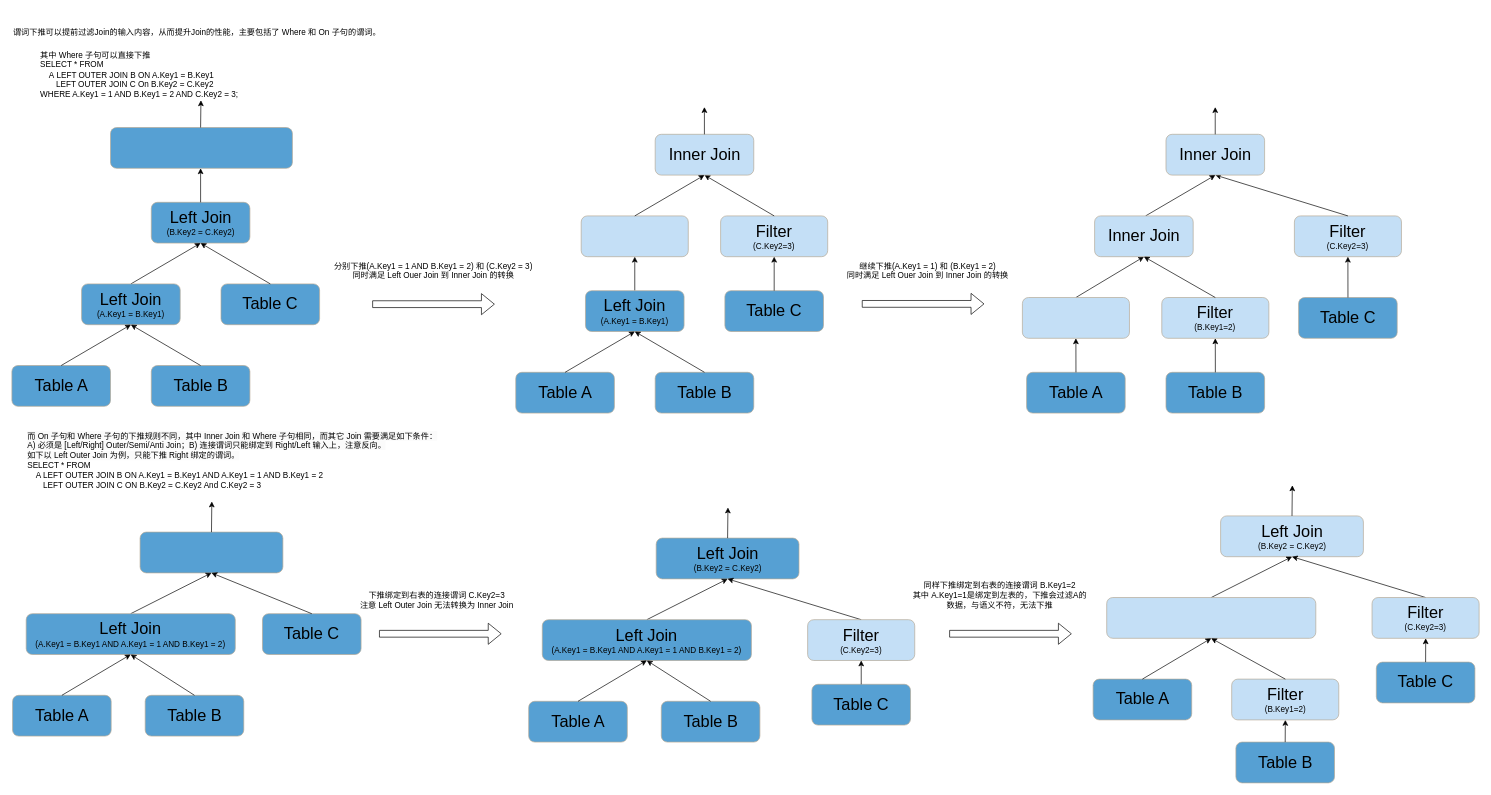
Some shapes in this 1491 by 795 pixel diagram are drawn without their labels. The centre of each missing label's shape, as x and y in pixels:
Filter (A.Key1 = 1 AND B.Key1 = 2 AND C.Key2 = 3): pixel 201 147
Filter (A.Key1=1 AND B.Key1=2): pixel 634 236
Filter (A.Key1=1): pixel 1075 317
Left Join (A.Key1 = B.Key1 AND A.Key1 = 1): pixel 1211 617
Left Join (B.Key2 = C.Key2 AND C.Key2 = 3): pixel 211 552
